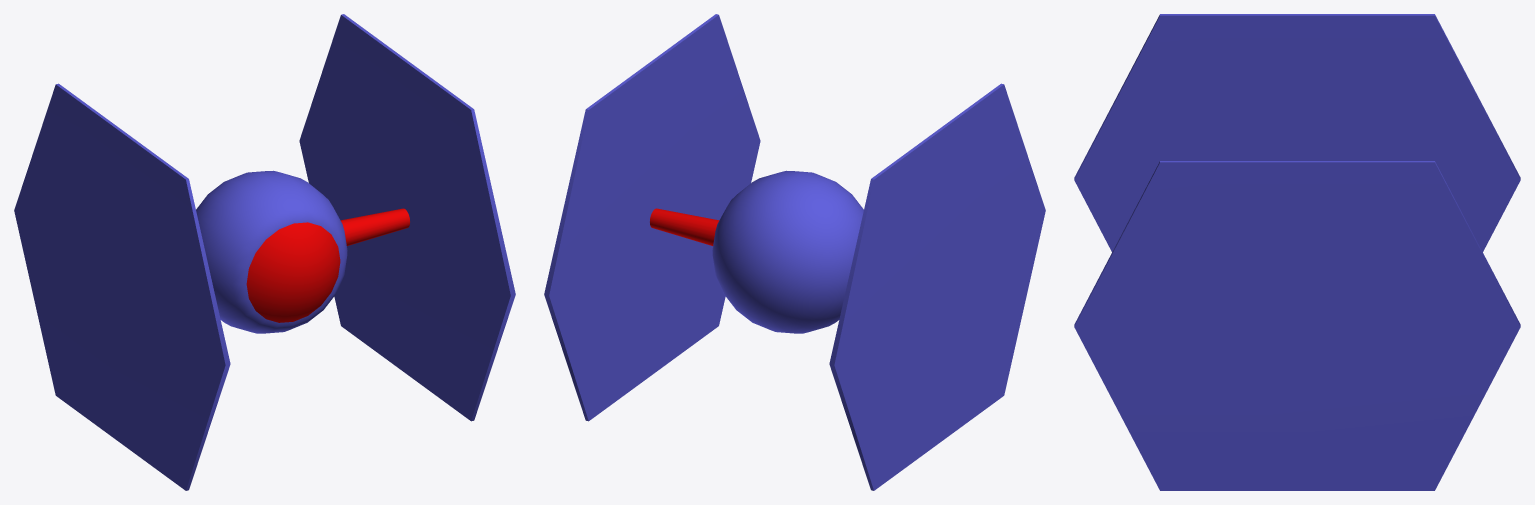
File: Enemy.fbx
The picture shows the model from 3 angles, left to right: view 1: azimuth 30°, elevation 25°; view 2: azimuth 150°, elevation 25°; view 3: azimuth 270°, elevation 25°; orthographic projection. The views are drawn at different scales.
Visible parts, largest first — view 1: pasted__pCube2; view 2: pasted__pCube2; view 3: pasted__pCube2.
Part boxes in pixels (x1=…): pasted__pCube2: x1=14, y1=14, x2=515, y2=490; pasted__pCube2: x1=544, y1=14, x2=1045, y2=490; pasted__pCube2: x1=1074, y1=14, x2=1520, y2=490.
Bounding box in the file's own units: 4.09 × 4.19 × 5.16.
